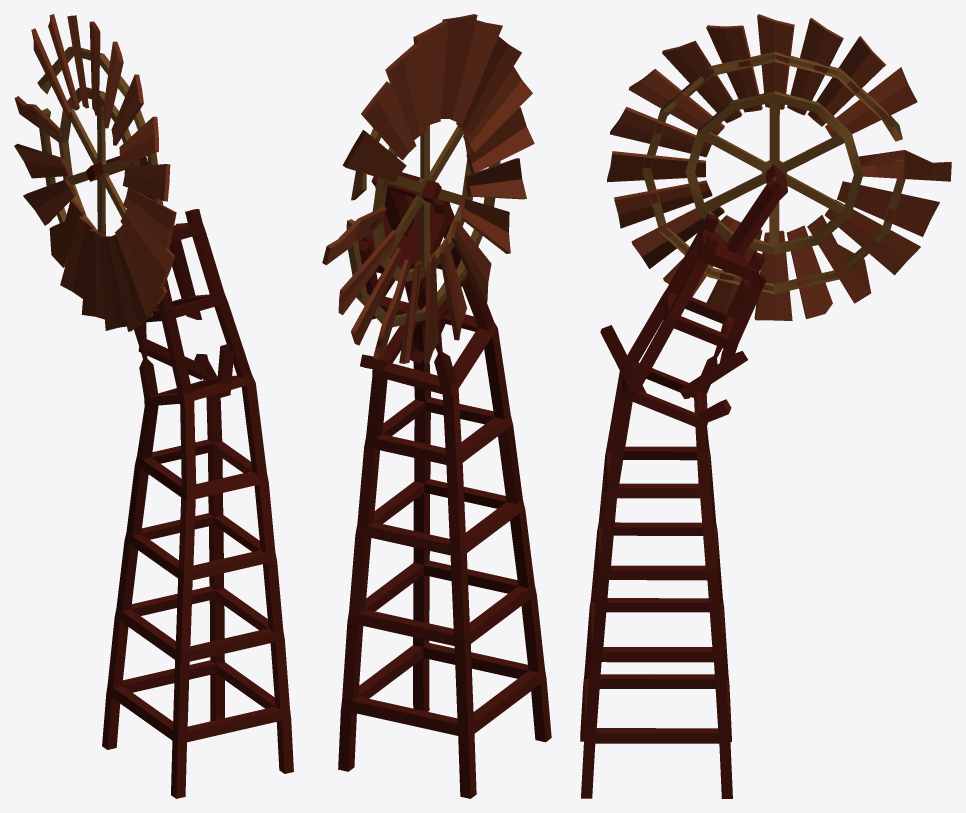
File: WindmillA.FBX
3 renders of one model, left to right at view 1: azimuth 30°, elevation 25°; view 2: azimuth 150°, elevation 25°; view 3: azimuth 270°, elevation 25°, orthographic. The views are drawn at different scales.
Visible parts, largest first — view 1: WindmillA; view 2: WindmillA; view 3: WindmillA.
Part boxes in pixels (<box>): WindmillA: <box>14,14,293,798</box>; WindmillA: <box>322,14,551,798</box>; WindmillA: <box>580,14,951,798</box>.
Size of the model in its own units: 148 by 836 by 386.
